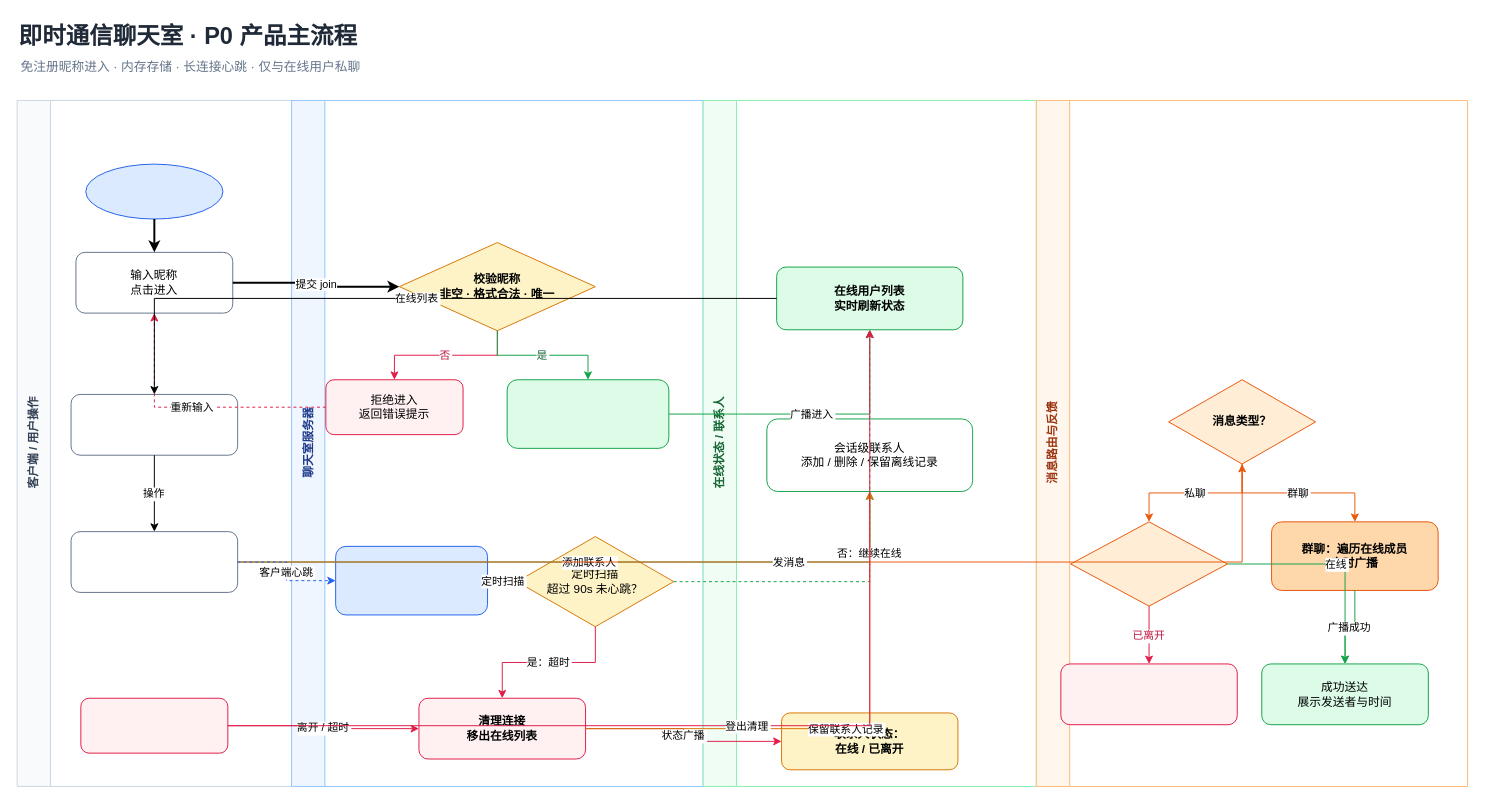
Image size: 1485x804. Some labels were removed from this diagram. The centre of each missing label's shape, as x and y in pixels:
"主动离开 / 断开" belongs at point 154,725.
"加入在线用户 Map 建立长连接 / 启动心跳" belongs at point 587,413.
"发送消息 或添加联系人" belongs at point 154,561.
"开始 打开聊天室" belongs at point 154,191.
"拒绝发送 “对方已离开聊天室”" belongs at point 1148,694.
"查看在线用户列表 选择聊天对象" belongs at point 154,424.
"每 30s 收到心跳 刷新 lastHeartbeat" belongs at point 411,580.
"私聊：目标在线？" belongs at point 1148,563.
